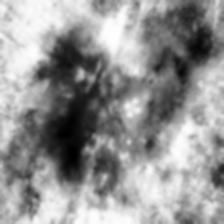Potentially Malignant Skin Tumors: (46, 118, 88, 178)
